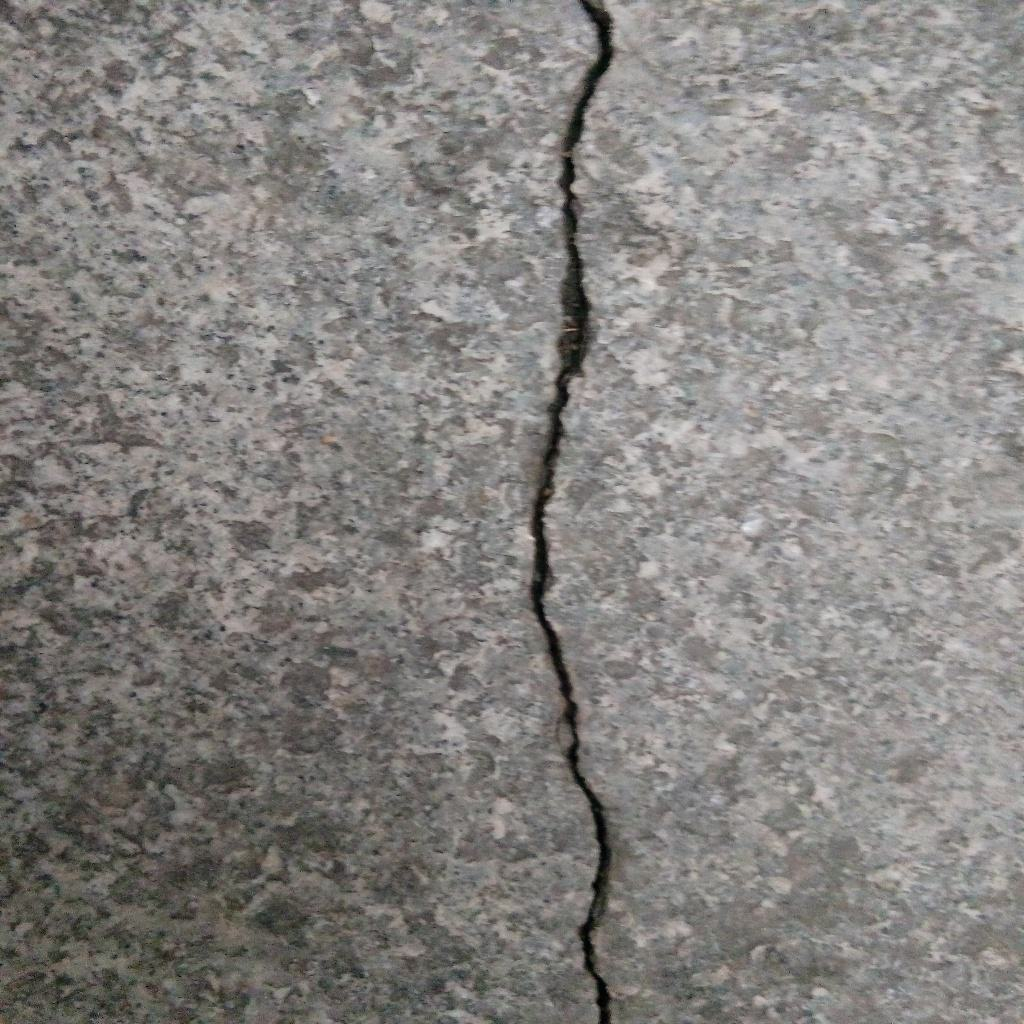Crack: (528, 1, 615, 1024)
